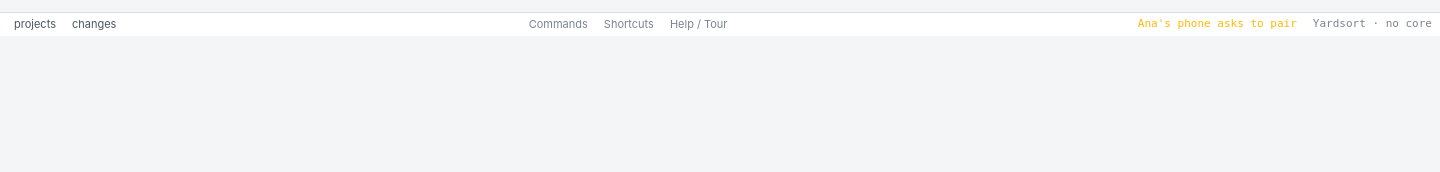
says a device asks to pair, and opens Settings → Remote to answer
Click the button "Ana's phone asks to pair" at [1217, 25], box [1134,16,1301,33]
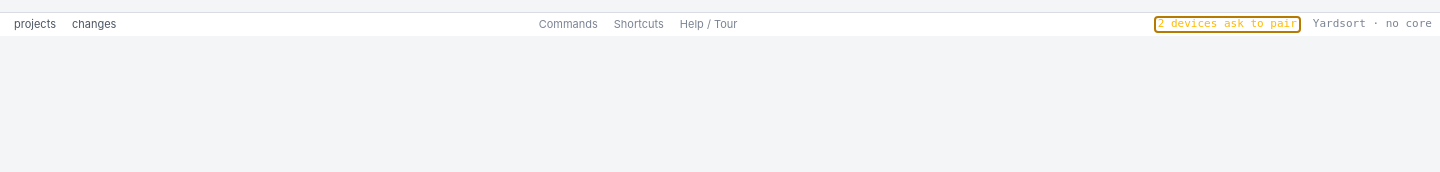
Result: the button "2 devices ask to pair" is shown at [1154,16,1301,33]
